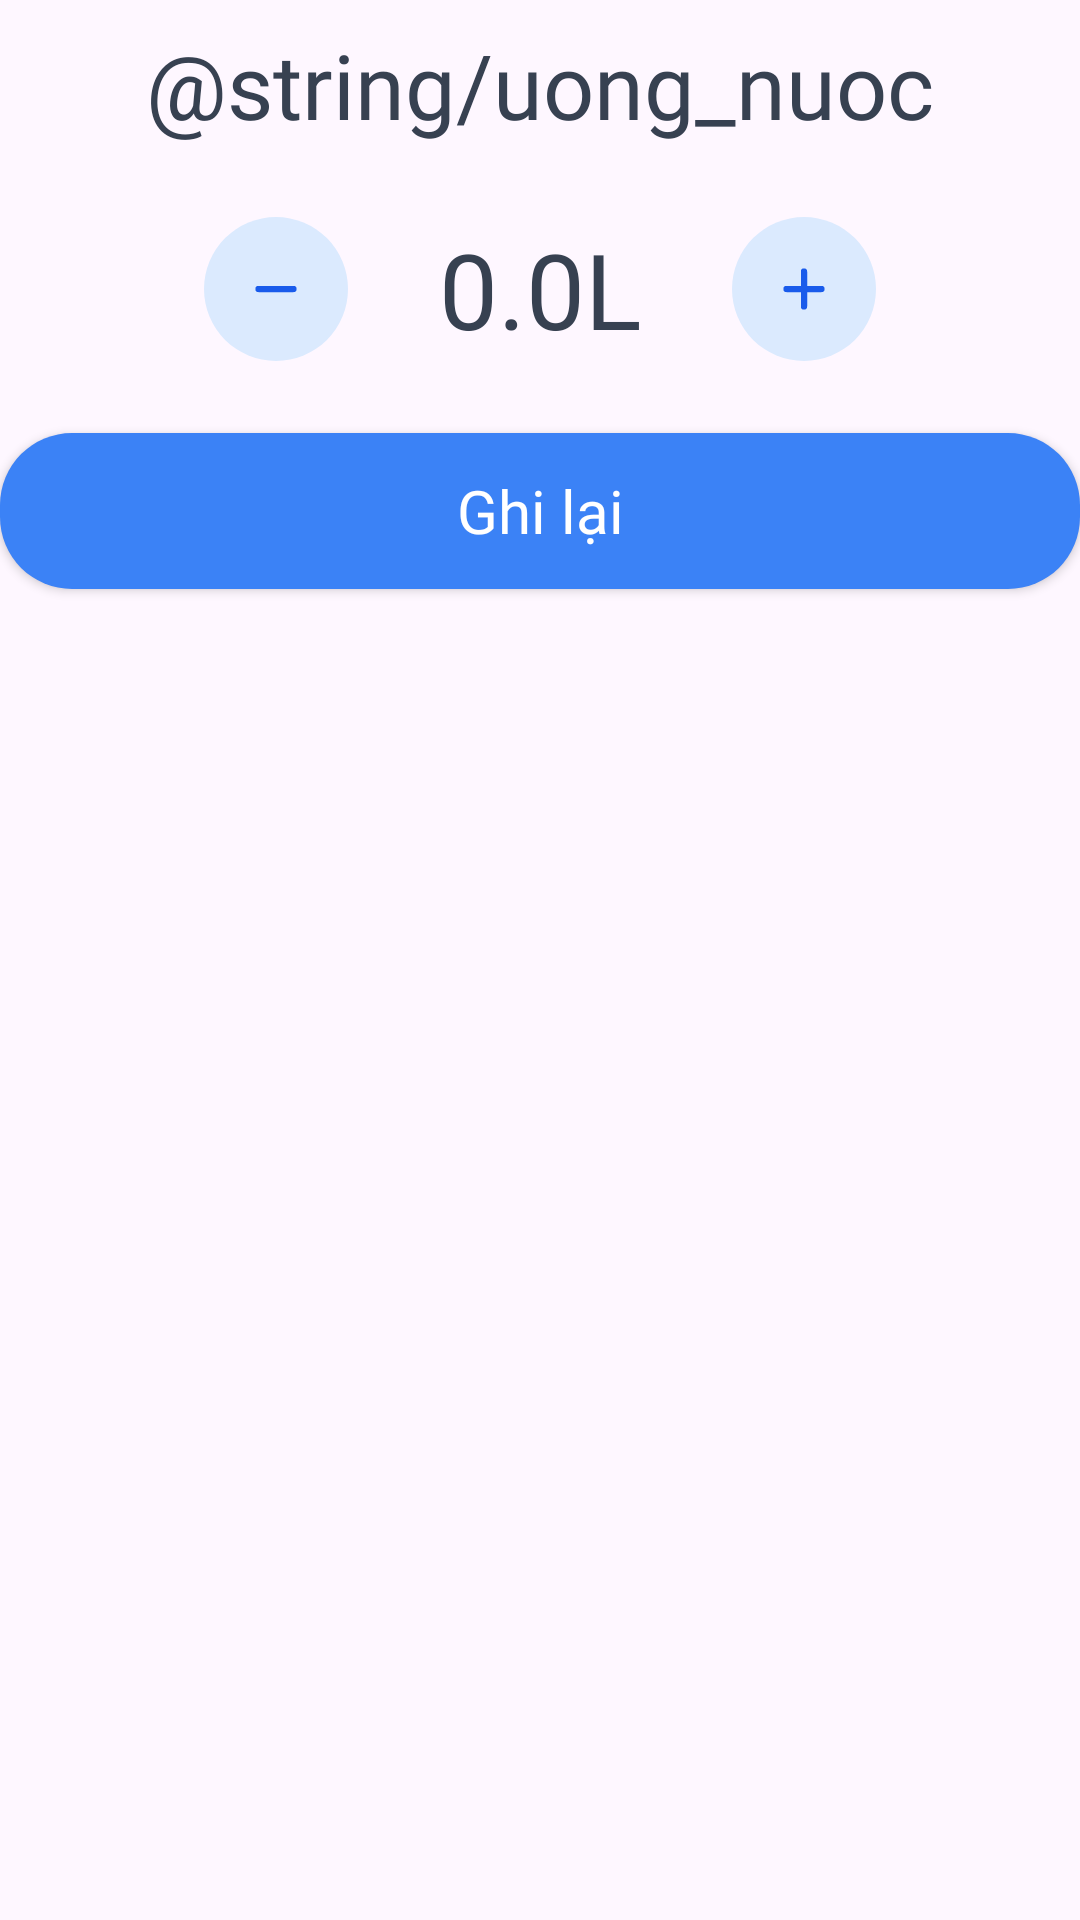

Icon click points for this 1080 x 1920 phone screenshot, format (x,y):
Cộng nước: (804,289)
Trừ nước: (276,289)
